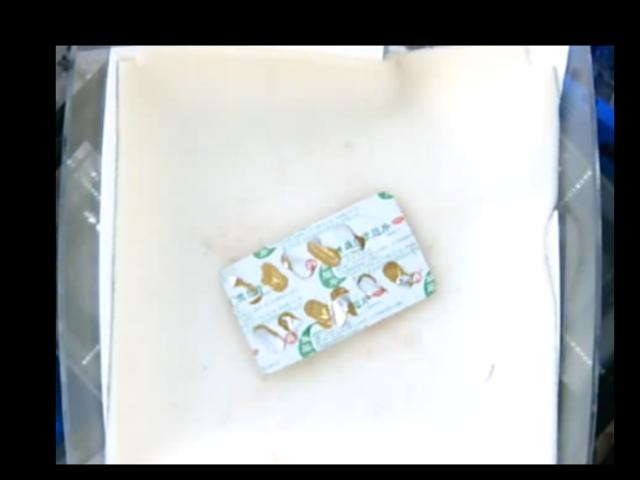Medicine: (222, 187, 437, 371)
